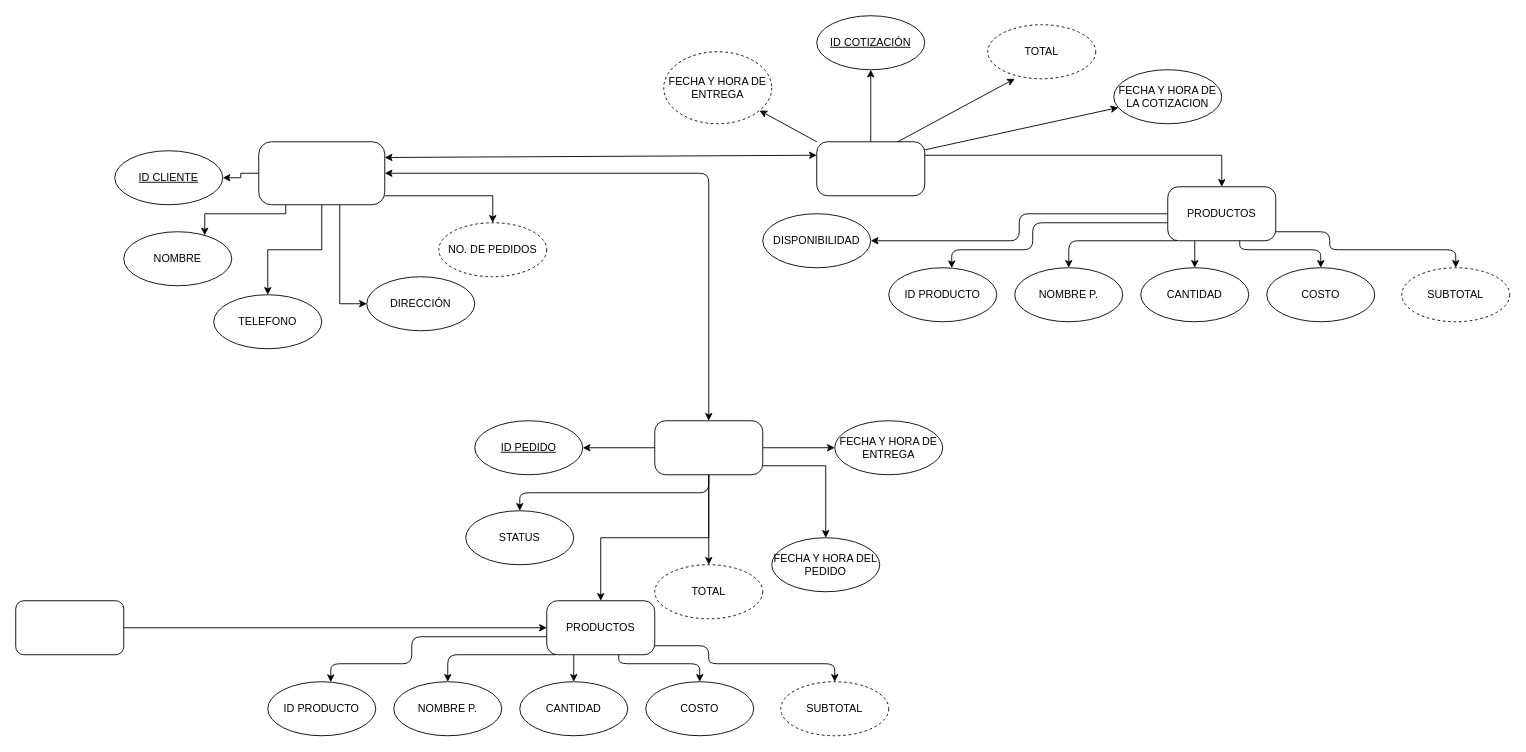
The diagram is 1526 pixels wide and 752 high, and some of its shapes have lost their labels. Each missing label, with the centre of its shape:
"CATALOGO" goes at point (69, 627).
"CLIENTES" goes at point (321, 173).
"COTIZACIONES" goes at point (870, 168).
"PEDIDOS" goes at point (708, 447).
